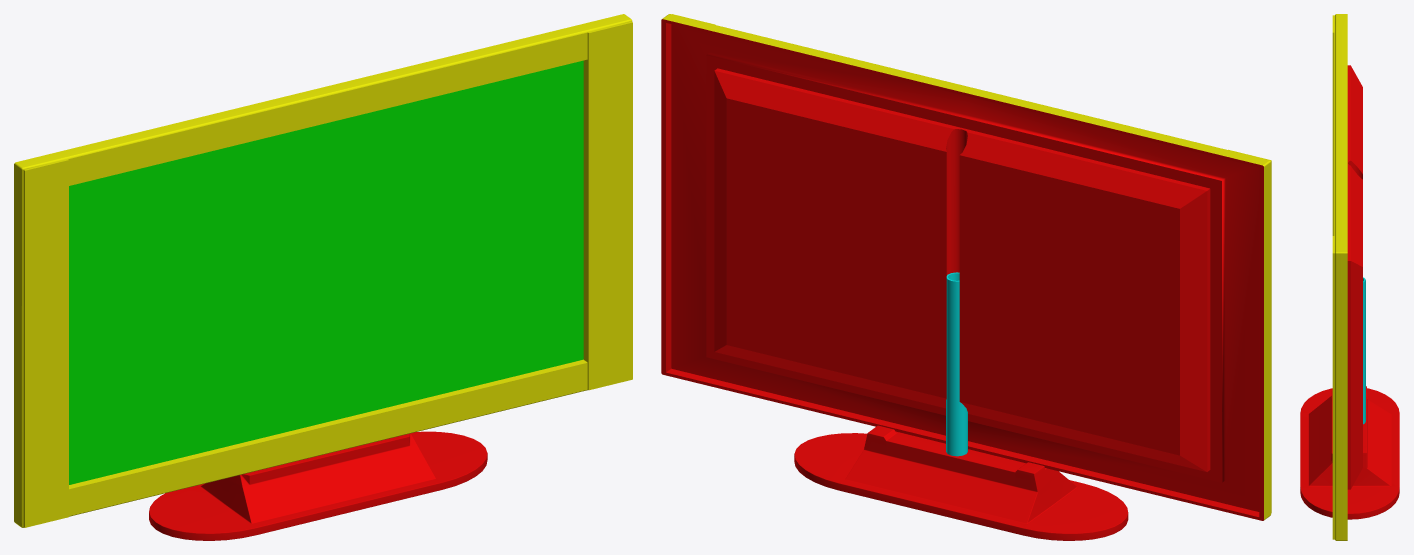
File: RoboTHOR_televisions_grp.fbx
The picture shows the model from 3 angles, left to right: view 1: azimuth 30°, elevation 25°; view 2: azimuth 150°, elevation 25°; view 3: azimuth 270°, elevation 25°; orthographic projection. The views are drawn at different scales.
Visible parts, largest first — view 1: robothor_television_props_america; view 2: robothor_television_props_america; view 3: robothor_television_props_america.
Part boxes in pixels (box(x1,y1,x2,y2)): robothor_television_props_america: box(14, 14, 632, 540); robothor_television_props_america: box(661, 14, 1271, 540); robothor_television_props_america: box(1300, 14, 1399, 540).
Size of the model in its own units: 82.5 by 51.99 by 14.51.
